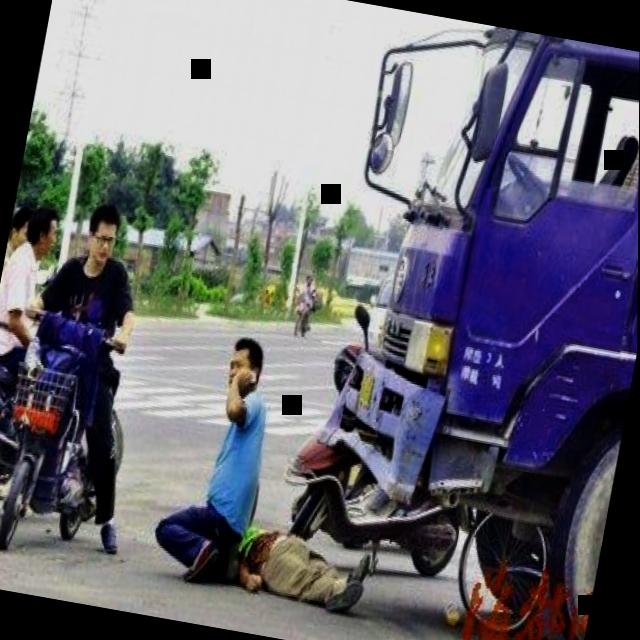Fall-Detected: (191, 488, 395, 622)
